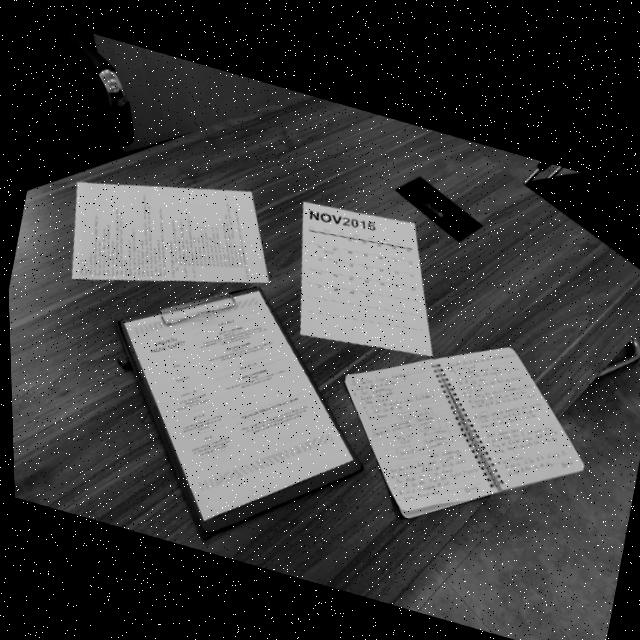document: (124, 290, 353, 521), (344, 347, 583, 518), (300, 202, 431, 356), (71, 182, 268, 282)
